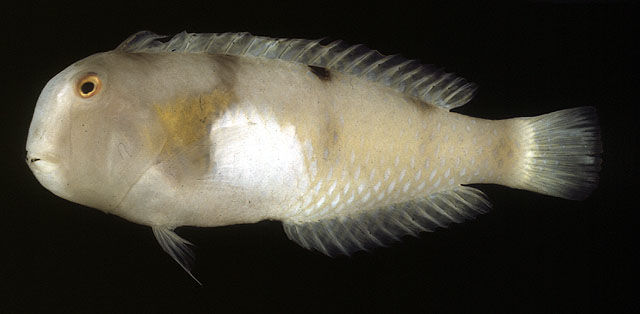fish: (25, 30, 598, 284)
